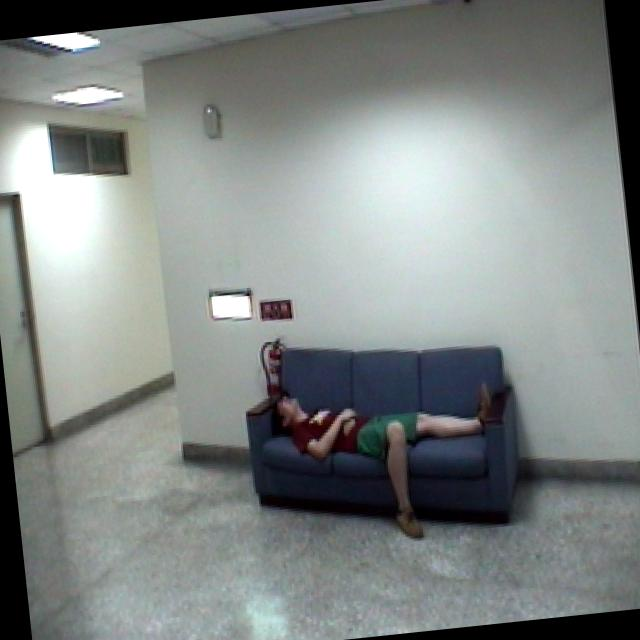lie: (262, 362, 508, 557)
